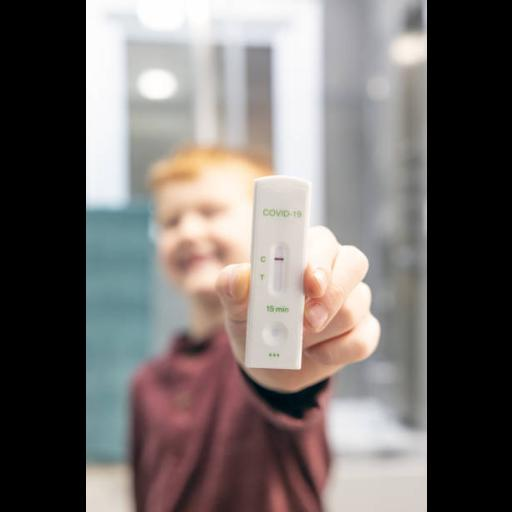Neg: (246, 176, 311, 369)
